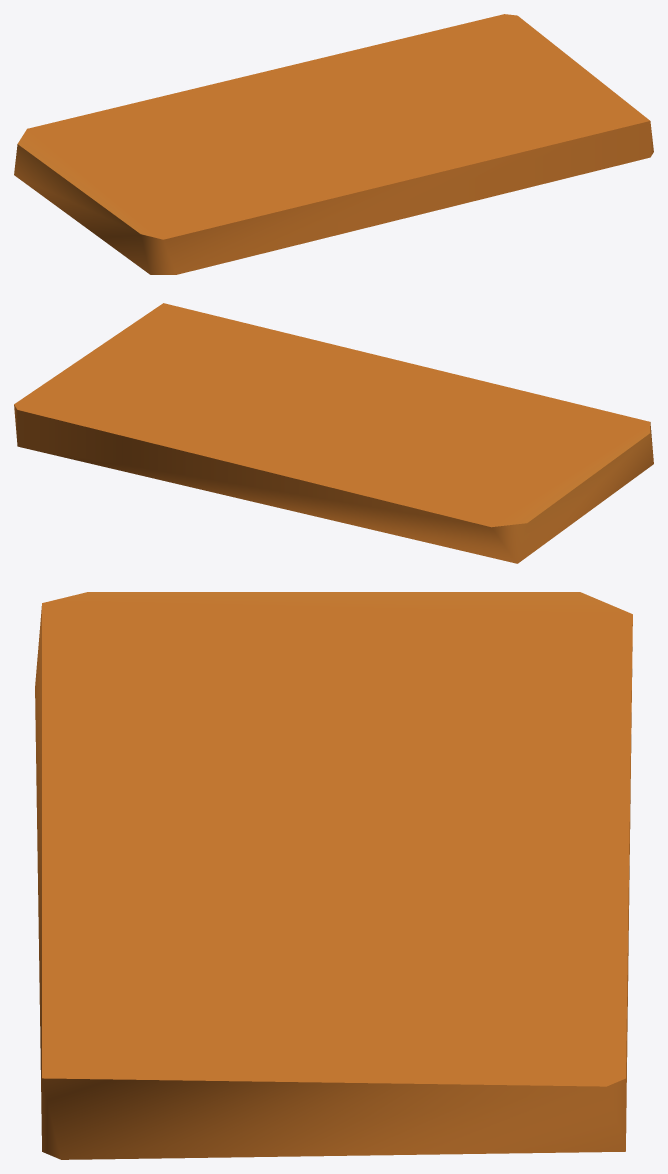
The picture shows the model from 3 angles, top to bottom: view 1: azimuth 30°, elevation 25°; view 2: azimuth 150°, elevation 25°; view 3: azimuth 270°, elevation 25°; orthographic projection. The views are drawn at different scales.
Parts seen in each view (by area): view 1: LOD 2_7040328769381660891_78e382a95436ca24cb13f2e28dcea642; view 2: LOD 2_7040328769381660891_78e382a95436ca24cb13f2e28dcea642; view 3: LOD 2_7040328769381660891_78e382a95436ca24cb13f2e28dcea642.
Part boxes in pixels (x1,y1,x2,y2): LOD 2_7040328769381660891_78e382a95436ca24cb13f2e28dcea642: (14, 14, 653, 274); LOD 2_7040328769381660891_78e382a95436ca24cb13f2e28dcea642: (14, 303, 653, 563); LOD 2_7040328769381660891_78e382a95436ca24cb13f2e28dcea642: (35, 592, 632, 1159).
Size of the model in its own units: 2.23 by 0.154 by 1.14.
